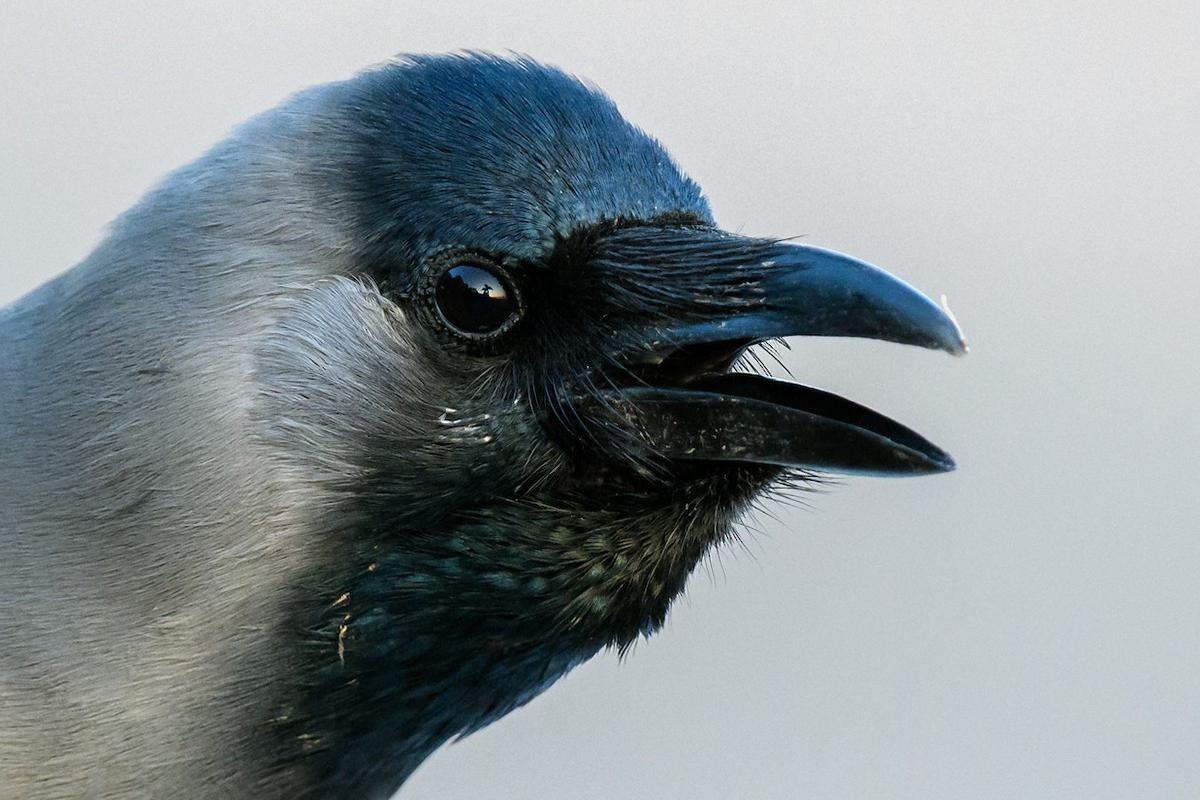crow: (1, 47, 974, 800)
